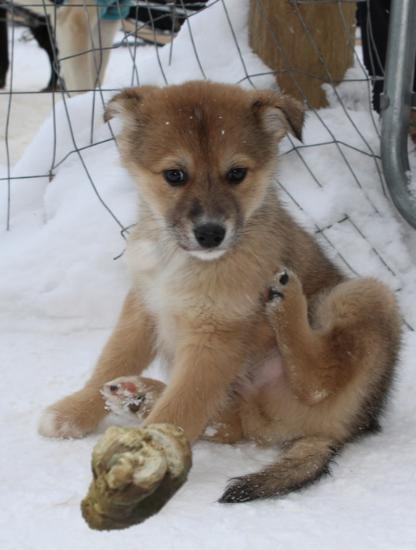Ginger: (62, 405, 199, 542)
